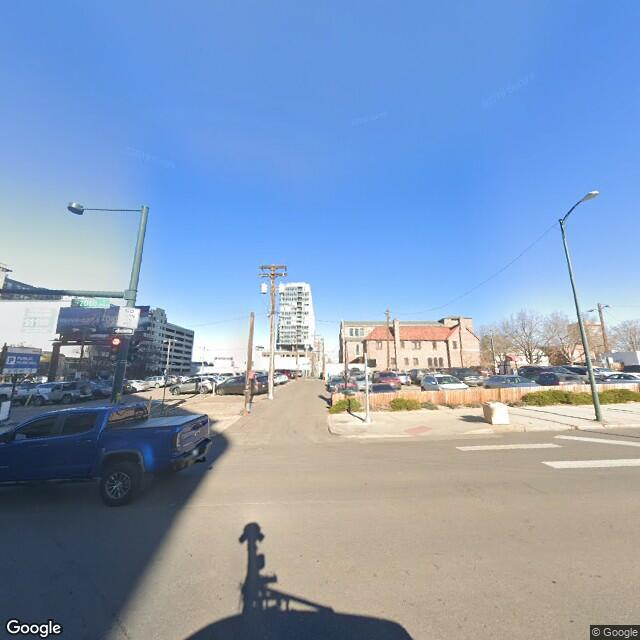lamp: (557, 181, 610, 423)
